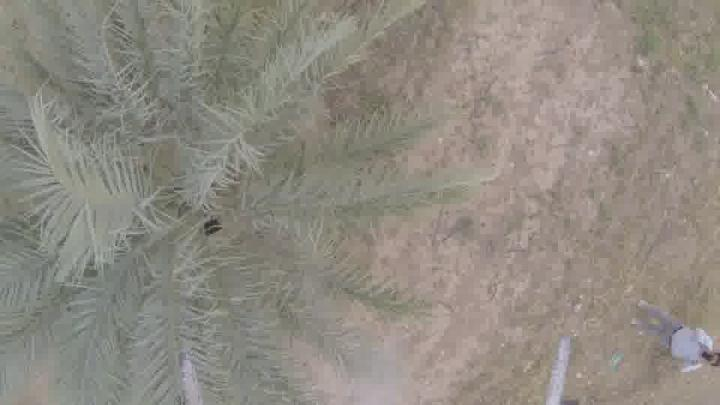Date-Palm-Crown: (8, 30, 350, 380)
